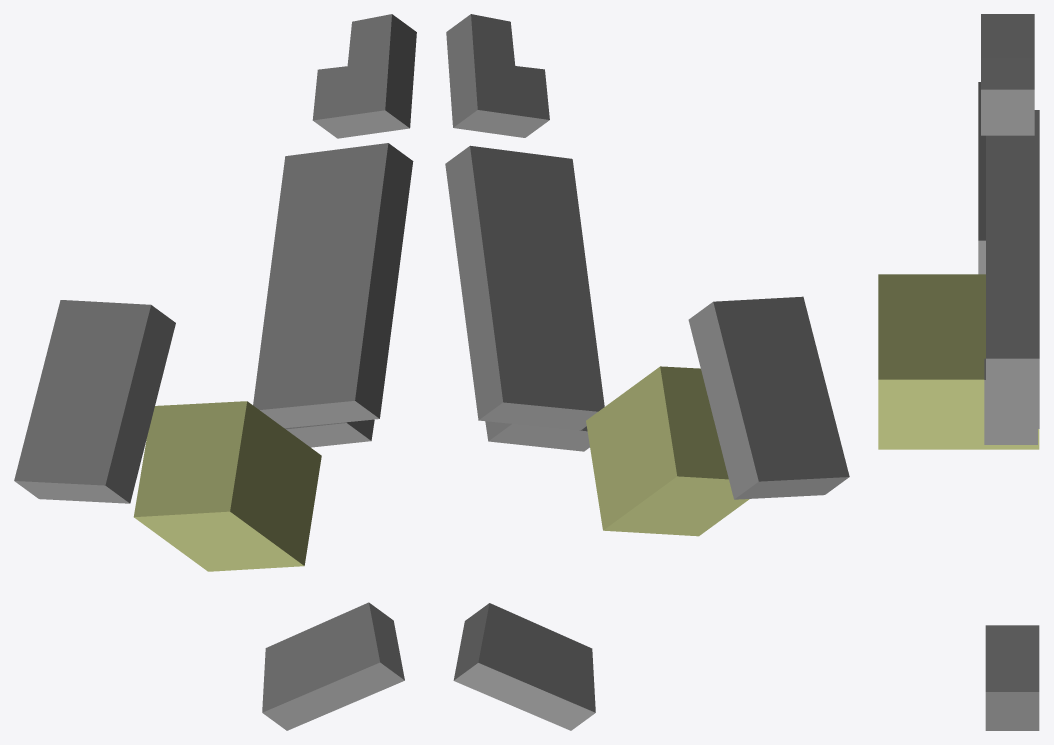
3 renders of one model, left to right at view 1: azimuth 30°, elevation 25°; view 2: azimuth 150°, elevation 25°; view 3: azimuth 270°, elevation 25°, orthographic. The views are drawn at different scales.
Visible parts, largest first — view 1: 0_1_2_0_1_3_3_1_0; view 2: 0_1_2_0_1_3_3_1_0; view 3: 0_1_2_0_1_3_3_1_0.
Part boxes in pixels (x1,y1,x2,y2): 0_1_2_0_1_3_3_1_0: [14, 14, 416, 730]; 0_1_2_0_1_3_3_1_0: [445, 14, 849, 730]; 0_1_2_0_1_3_3_1_0: [878, 14, 1039, 730].
Size of the model in its own units: 26.43 by 44.71 by 9.01.
